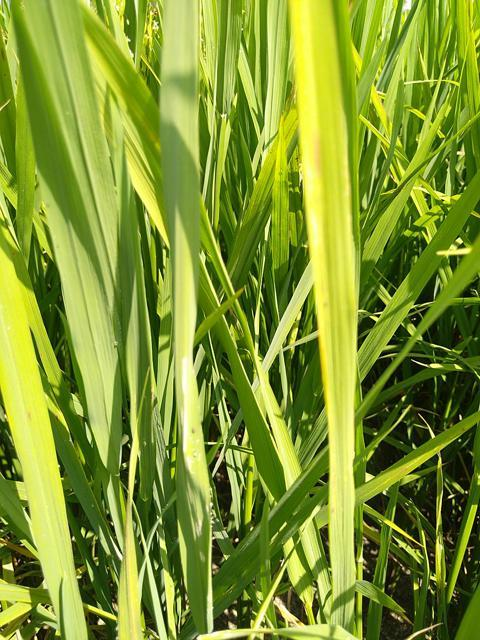Leaf Streak: (290, 0, 362, 631), (177, 357, 199, 469)
